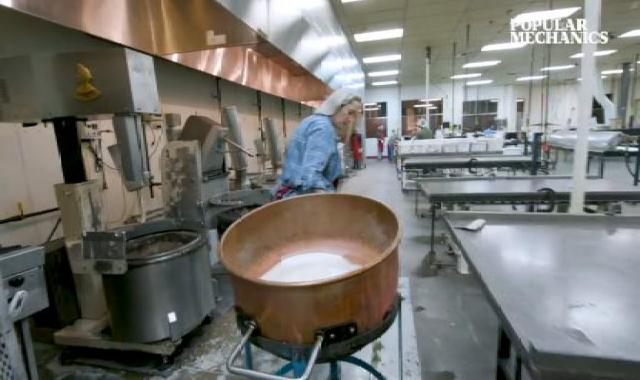hairnet: (316, 89, 372, 122)
